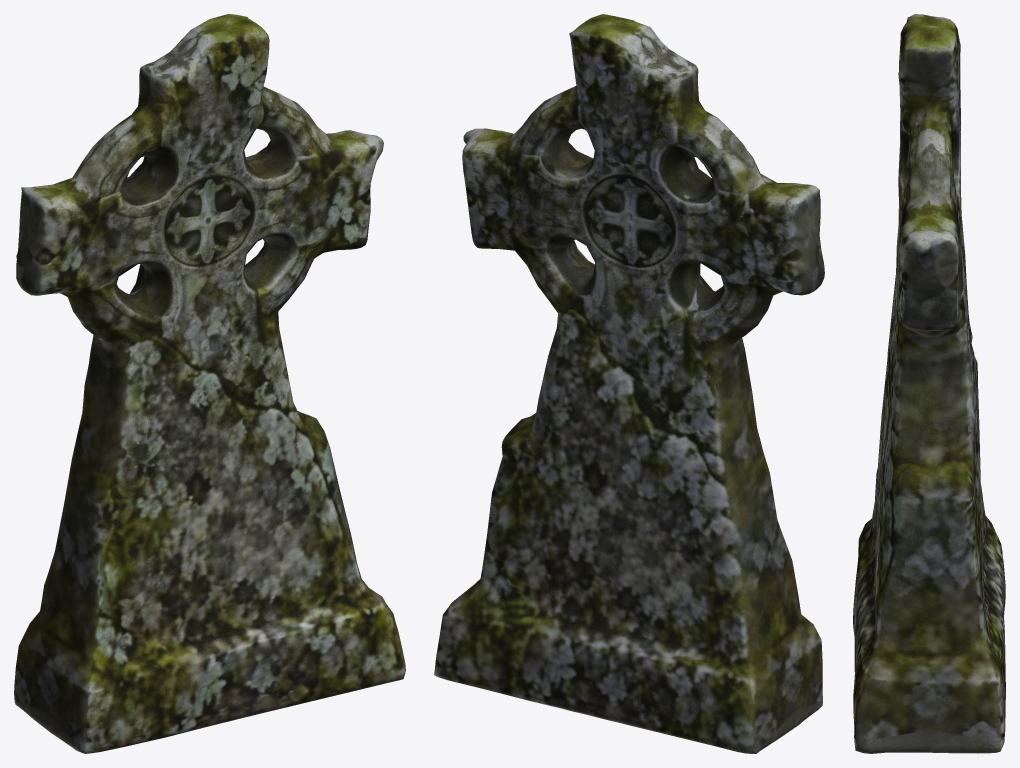
Rendered from gravestone.glb.
The picture shows the model from 3 angles, left to right: view 1: azimuth 30°, elevation 25°; view 2: azimuth 150°, elevation 25°; view 3: azimuth 270°, elevation 25°; orthographic projection.
Size of the model in its own units: 1.13 by 2 by 0.4187.
1 material, 1 textured.
